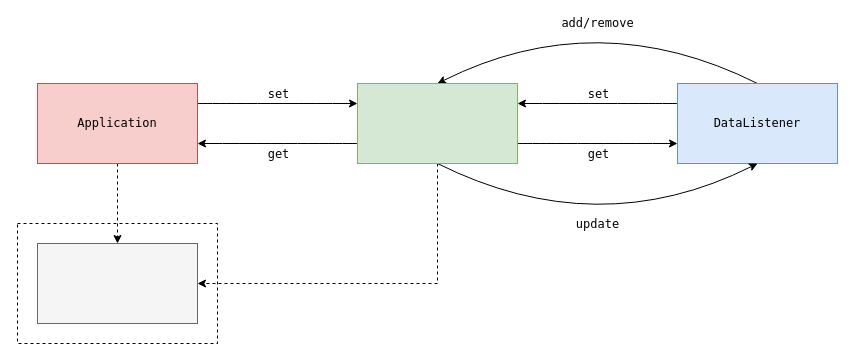
The diagram is 855 pixels wide and 362 high, and some of its shapes have lost their labels. Each missing label, with the centre of its shape:
<data>: point 117,283
DataSource: point 437,123
